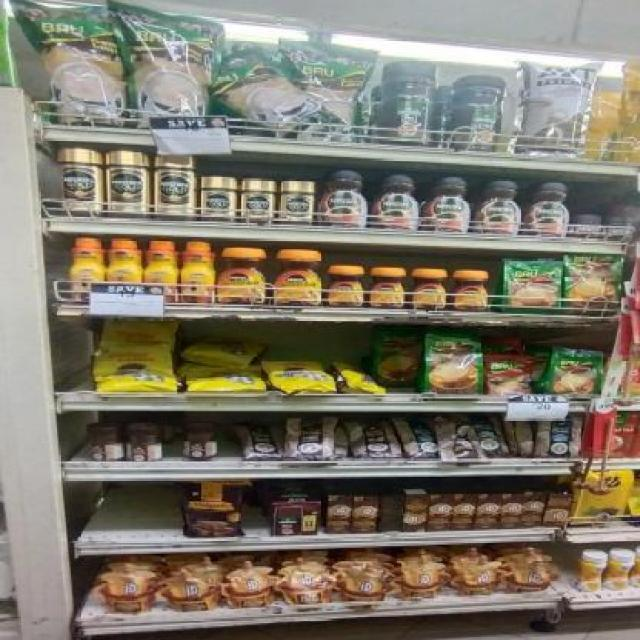Coffee: (102, 150, 151, 219), (58, 148, 105, 218), (154, 152, 197, 221), (273, 249, 321, 307), (320, 169, 367, 227), (217, 248, 265, 304), (371, 174, 418, 228), (425, 175, 469, 231), (476, 178, 520, 234), (527, 181, 567, 238), (71, 238, 104, 300), (182, 243, 214, 304), (369, 268, 408, 310), (452, 270, 491, 311), (201, 178, 237, 222), (107, 240, 143, 283), (278, 180, 312, 224), (145, 240, 177, 286), (328, 266, 362, 308), (412, 268, 446, 308), (242, 179, 274, 220), (602, 216, 634, 240), (571, 214, 599, 237)
